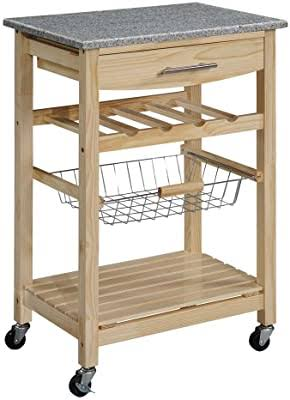Carts: (1, 1, 288, 400)
